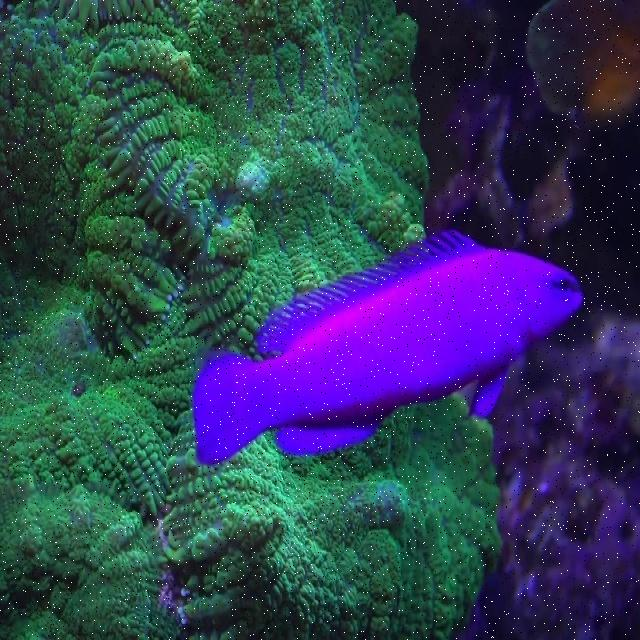fish: (192, 234, 585, 460)
reefs: (0, 2, 501, 638)
